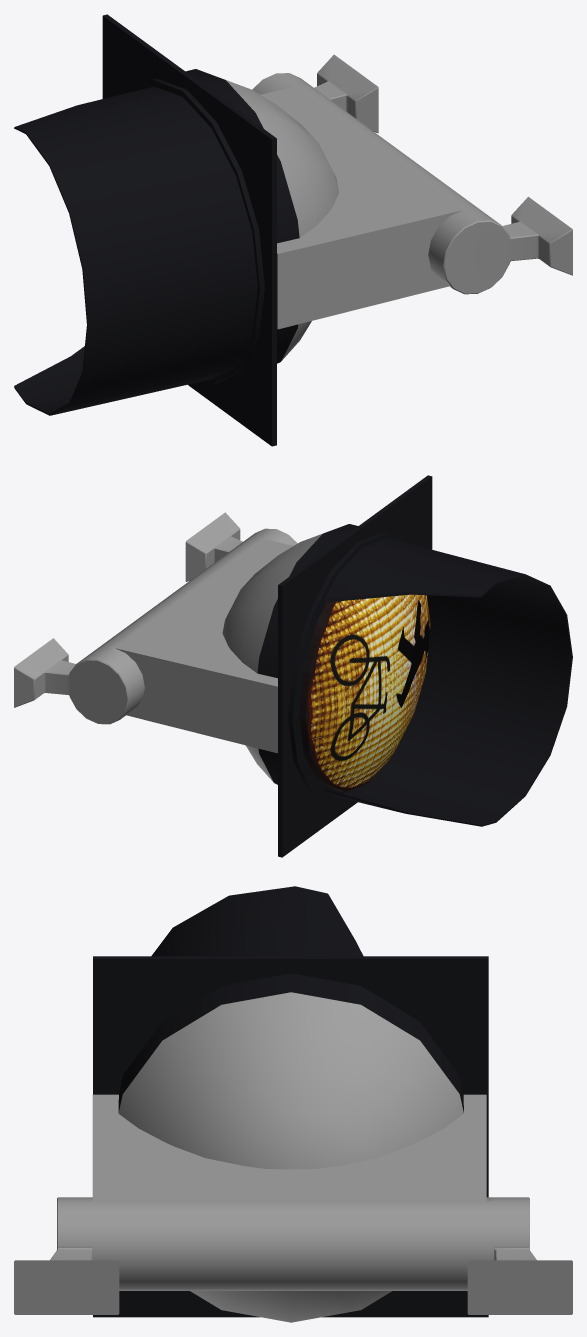
File: Schutzblinker_Fussgaenger_Fahrrad_Mast.obj
3 renders of one model, top to bottom at view 1: azimuth 30°, elevation 25°; view 2: azimuth 150°, elevation 25°; view 3: azimuth 270°, elevation 25°, orthographic. The views are drawn at different scales.
Visible parts, largest first — view 1: Sonnenblende.003_Cylinder.005, Cube.003_Cube.005, Blende.003_Cube.006, BezierCurve.001_BezierCurve.002, Masthalterung.002_Cylinder.006, Masthalterung.003_Cylinder.006; view 2: Sonnenblende.003_Cylinder.005, BezierCurve.001_BezierCurve.002, Cube.003_Cube.005, Blende.003_Cube.006, Masthalterung.003_Cylinder.006, Masthalterung.002_Cylinder.006; view 3: Cube.003_Cube.005, BezierCurve.001_BezierCurve.002, Blende.003_Cube.006, Sonnenblende.003_Cylinder.005, Masthalterung.003_Cylinder.006, Masthalterung.002_Cylinder.006.
Boxes of the visible parts, x1=… form: Sonnenblende.003_Cylinder.005: x1=14, y1=86, x2=257, y2=415; Cube.003_Cube.005: x1=260, y1=84, x2=486, y2=329; Blende.003_Cube.006: x1=102, y1=14, x2=276, y2=446; BezierCurve.001_BezierCurve.002: x1=126, y1=69, x2=338, y2=384; Masthalterung.002_Cylinder.006: x1=428, y1=196, x2=572, y2=294; Masthalterung.003_Cylinder.006: x1=252, y1=54, x2=378, y2=133; Sonnenblende.003_Cylinder.005: x1=324, y1=538, x2=572, y2=826; BezierCurve.001_BezierCurve.002: x1=222, y1=524, x2=430, y2=802; Cube.003_Cube.005: x1=90, y1=538, x2=292, y2=753; Blende.003_Cube.006: x1=278, y1=475, x2=432, y2=857; Masthalterung.003_Cylinder.006: x1=14, y1=638, x2=141, y2=724; Masthalterung.002_Cylinder.006: x1=185, y1=512, x2=297, y2=581; Cube.003_Cube.005: x1=92, y1=1094, x2=493, y2=1290; BezierCurve.001_BezierCurve.002: x1=118, y1=973, x2=463, y2=1322; Blende.003_Cube.006: x1=93, y1=956, x2=488, y2=1317; Sonnenblende.003_Cylinder.005: x1=151, y1=886, x2=363, y2=956; Masthalterung.003_Cylinder.006: x1=467, y1=1197, x2=572, y2=1314; Masthalterung.002_Cylinder.006: x1=14, y1=1197, x2=119, y2=1314.
Size of the model in its own units: 0.5668 by 0.3789 by 0.5357.
3 materials, 3 textured.
